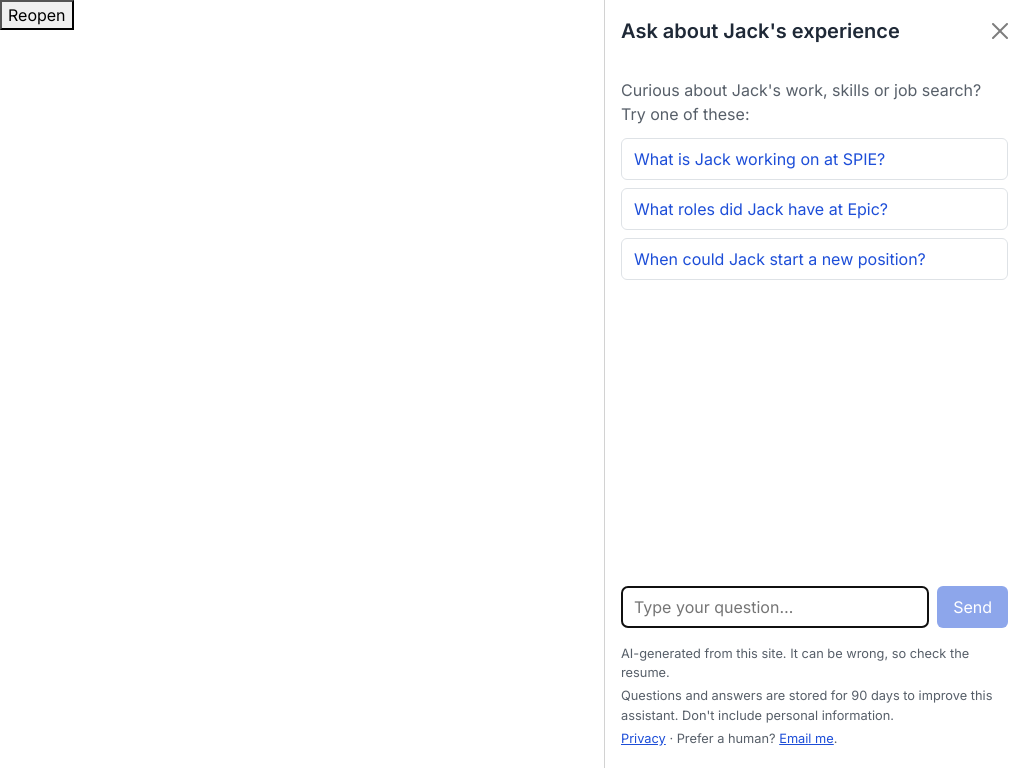
AssistantDrawer › sends a starter question and shows the answer with its links
Step 1. Click the button "What is Jack working on at SPIE?" → (814, 159), box [621,138,1008,180]
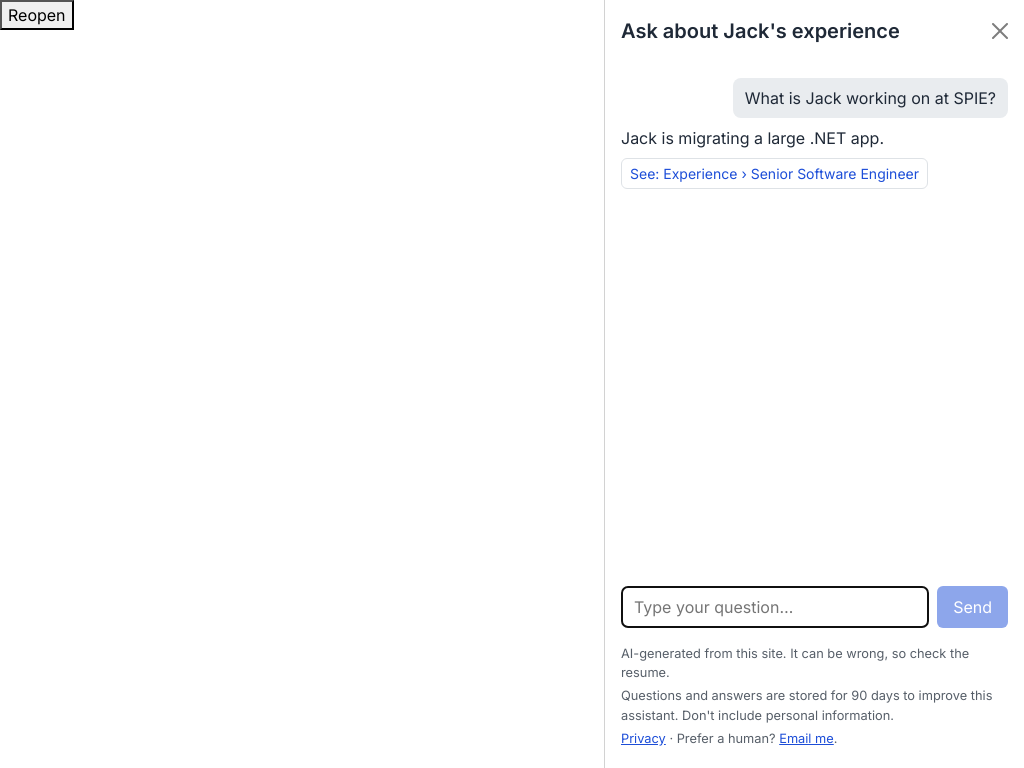
Result: the text "Jack is migrating a large .NET app." is shown at [621,128,884,148]
Result: the button "See: Experience › Senior Software Engineer" is shown at [621,158,928,189]
